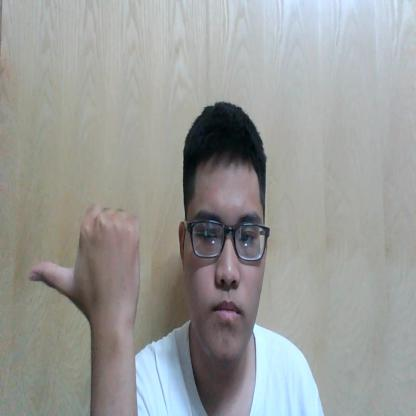right: (30, 202, 143, 335)
